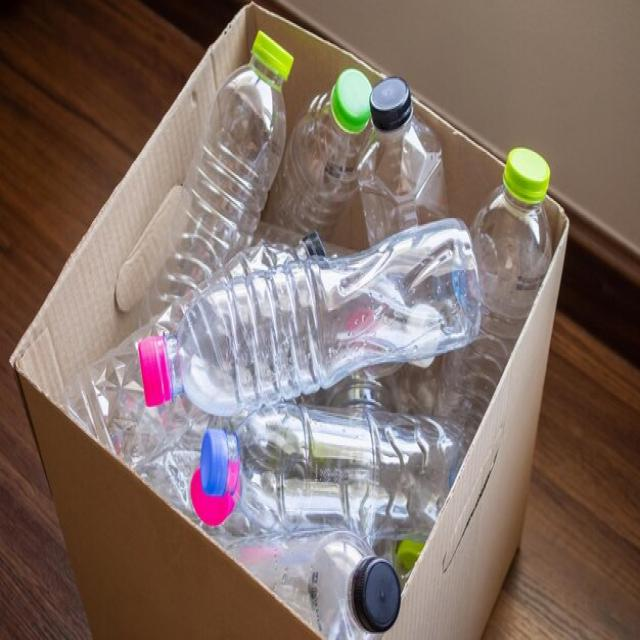plastic_bottle: (134, 213, 489, 426), (143, 33, 291, 297), (195, 404, 472, 538)
